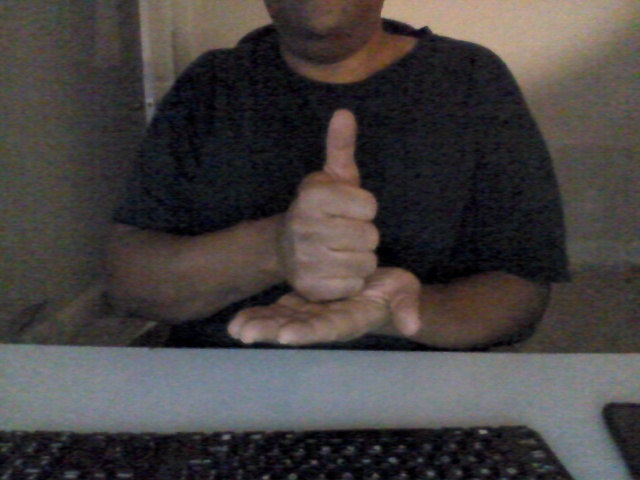help: (220, 103, 425, 354)
